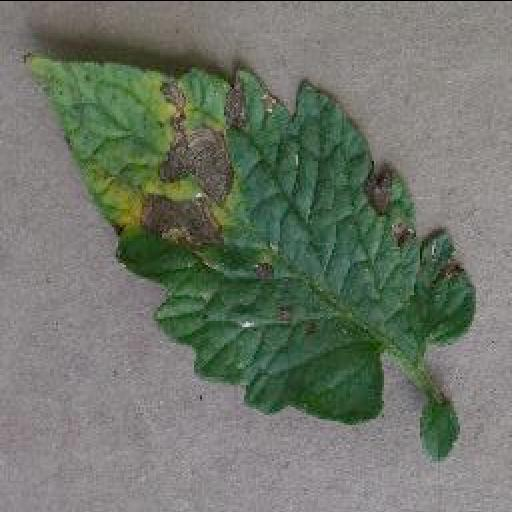disease_tomato: (24, 53, 470, 425)
